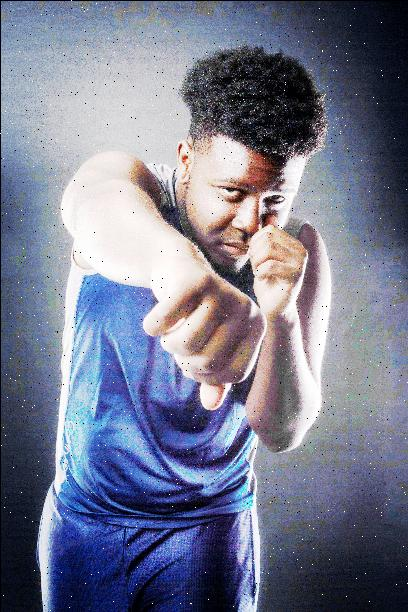Rock: (244, 222, 316, 319)
